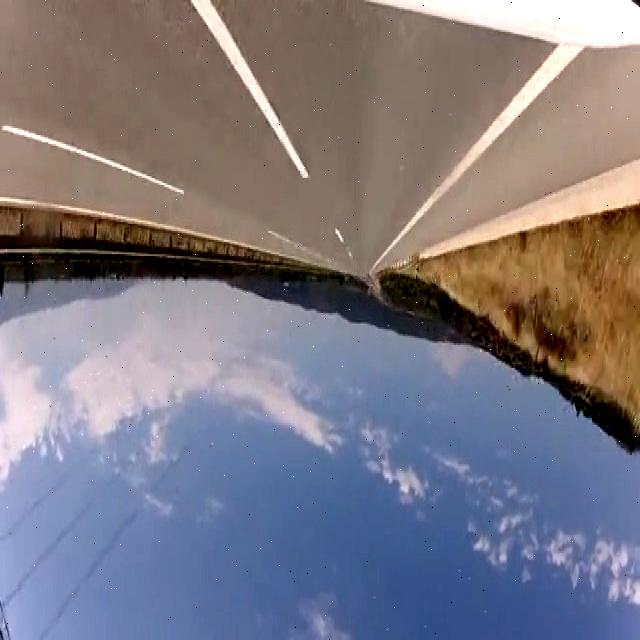lane: (370, 44, 582, 276), (191, 2, 308, 178), (2, 126, 184, 192)
road: (0, 4, 553, 277), (383, 48, 639, 267)
